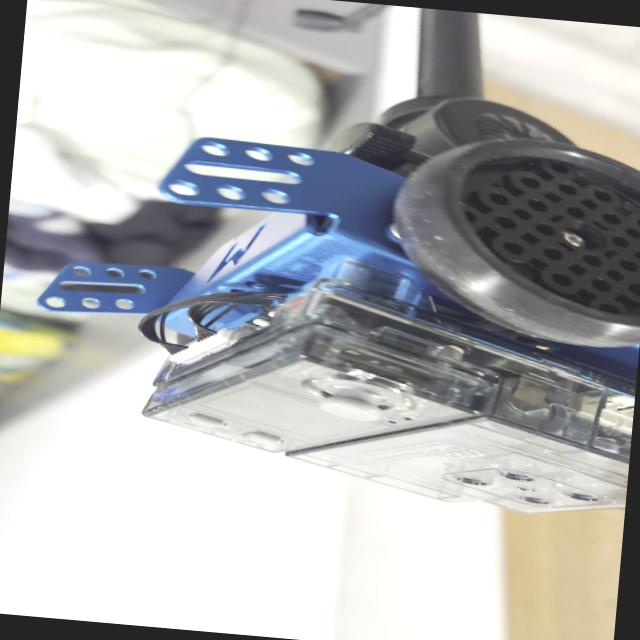mbot-detection: (13, 89, 640, 526)
